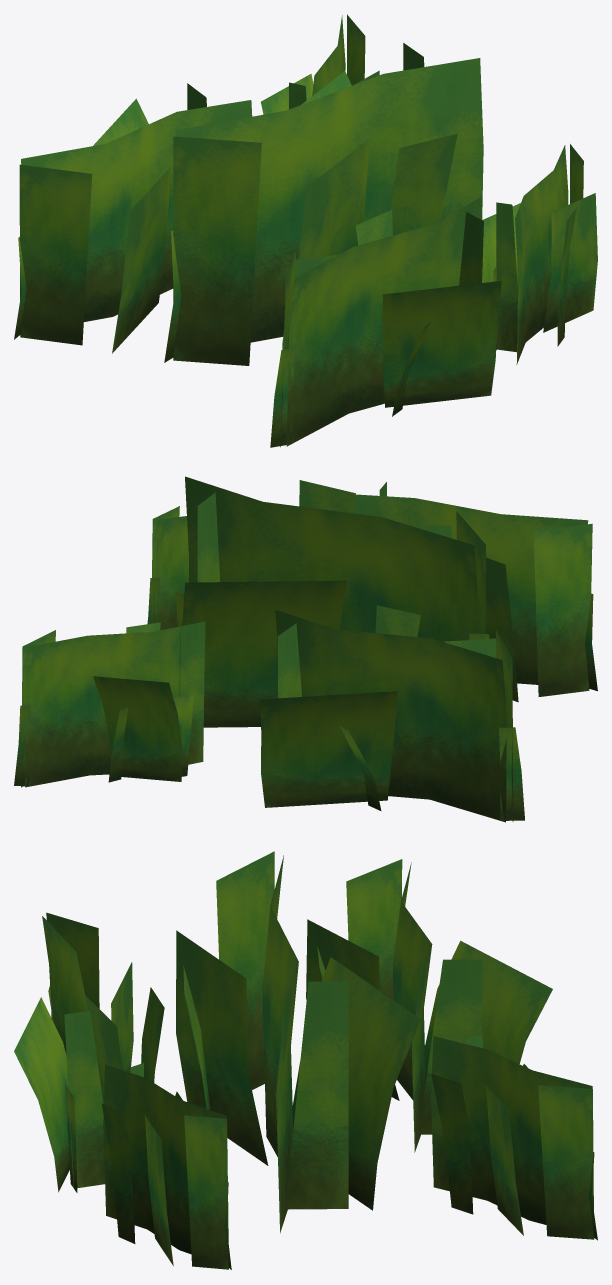
The model's file is NEW_grass.fbx.
The picture shows the model from 3 angles, top to bottom: view 1: azimuth 30°, elevation 25°; view 2: azimuth 150°, elevation 25°; view 3: azimuth 270°, elevation 25°; orthographic projection. The views are drawn at different scales.
Visible parts, largest first — view 1: polySurface10; view 2: polySurface10; view 3: polySurface10.
Boxes of the visible parts, x1,y1,x2,y2 form: polySurface10: (14, 14, 597, 447); polySurface10: (14, 476, 597, 822); polySurface10: (14, 851, 597, 1269).
Size of the model in its own units: 28.74 by 13.43 by 29.78.
